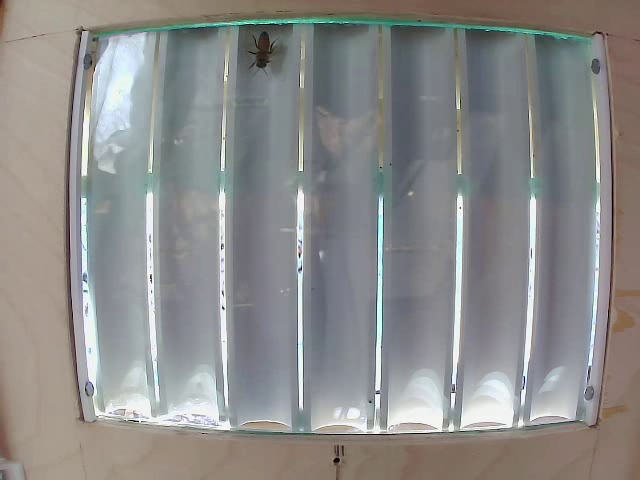bee: (242, 32, 282, 79)
